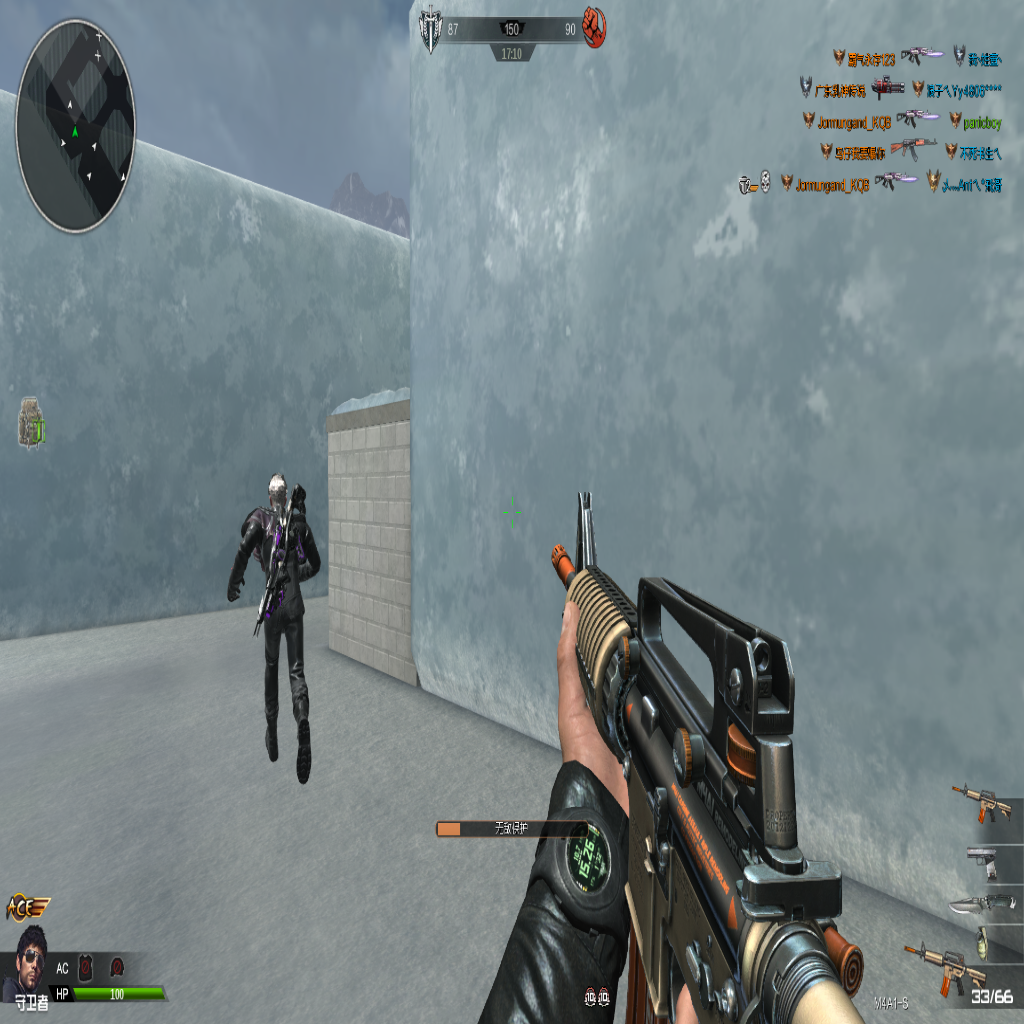ct: (226, 481, 322, 788)
